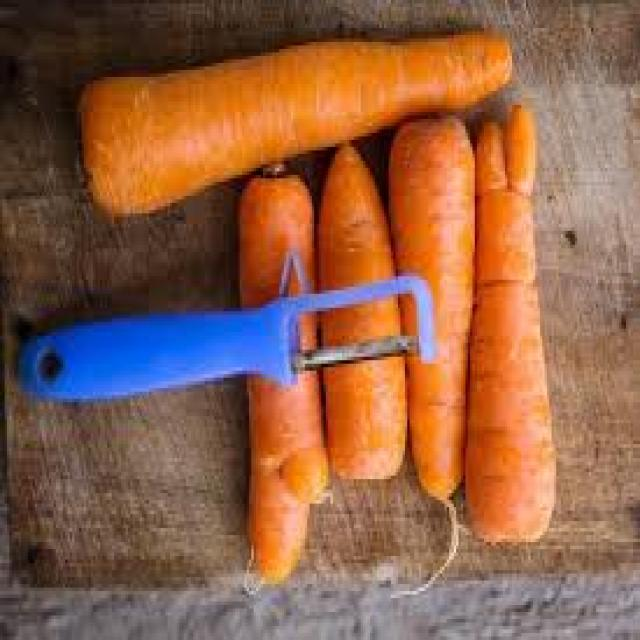Stale_Carrot: (470, 108, 556, 544), (467, 407, 552, 538)
